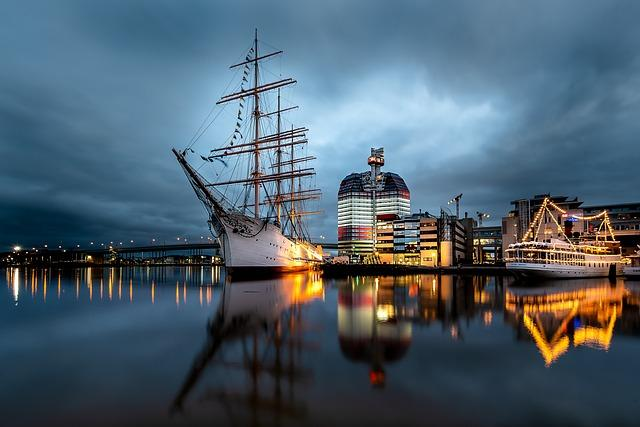Ship: (174, 31, 322, 276), (506, 199, 624, 278)
